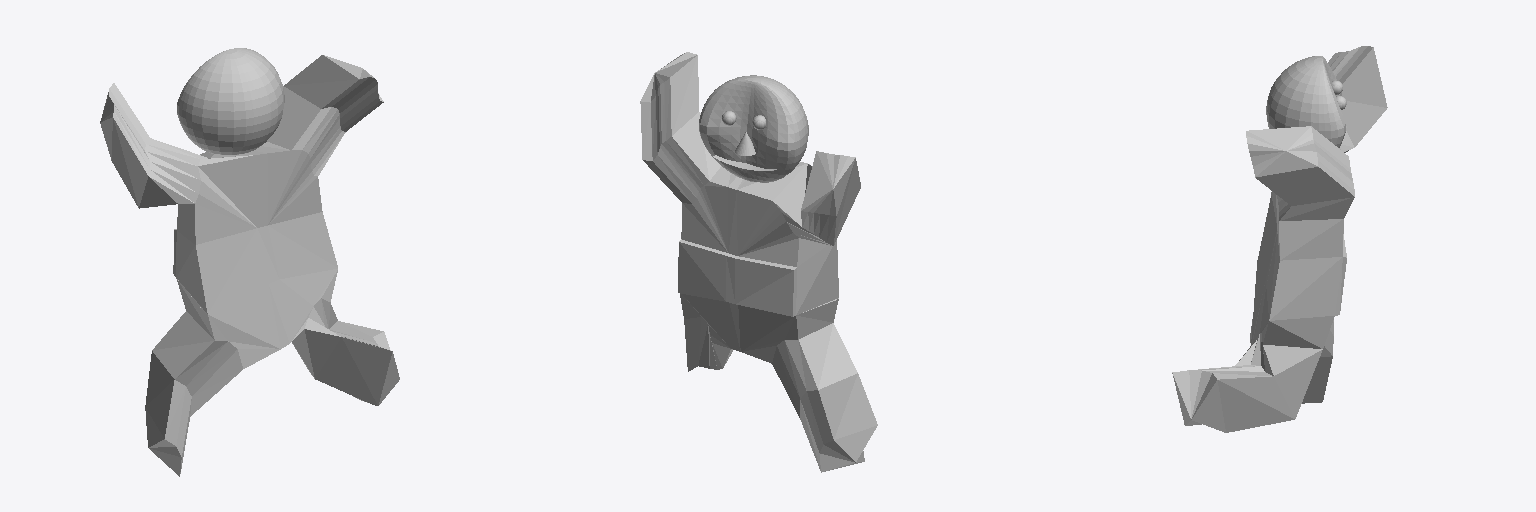
The model's file is manjump_000021.obj.
3 renders of one model, left to right at view 1: azimuth 30°, elevation 25°; view 2: azimuth 150°, elevation 25°; view 3: azimuth 270°, elevation 25°, orthographic.
Parts seen in each view (by area): view 1: Cube; view 2: Cube; view 3: Cube.
Boxes of the visible parts, box(x1,y1,x2,y2) form: Cube: box(100, 48, 399, 476); Cube: box(640, 52, 877, 472); Cube: box(1172, 46, 1387, 432).
Size of the model in its own units: 78.65 by 125 by 63.55.